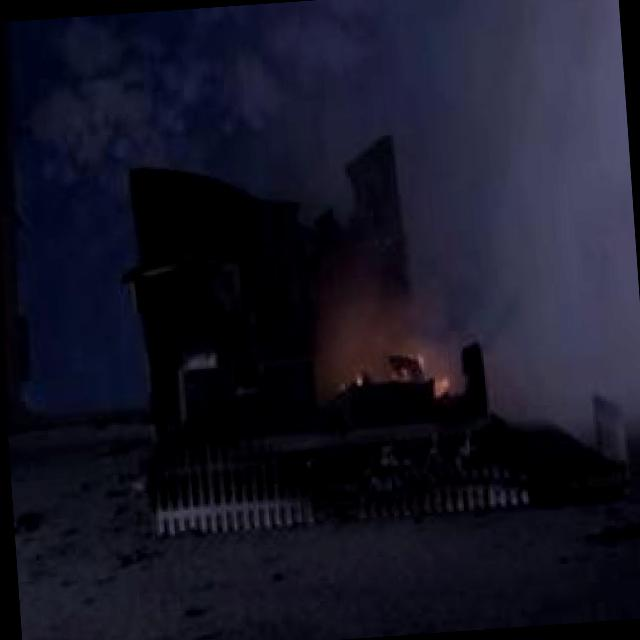smoke: (313, 0, 640, 357)
